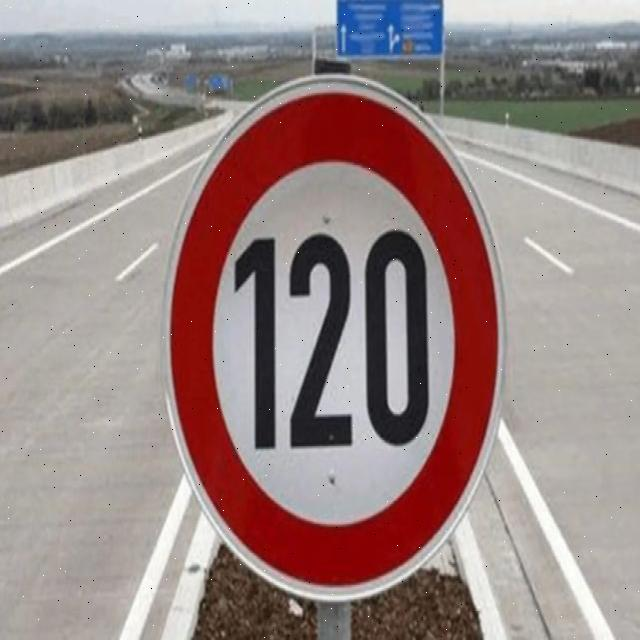speed limit 120: (162, 77, 507, 600)
